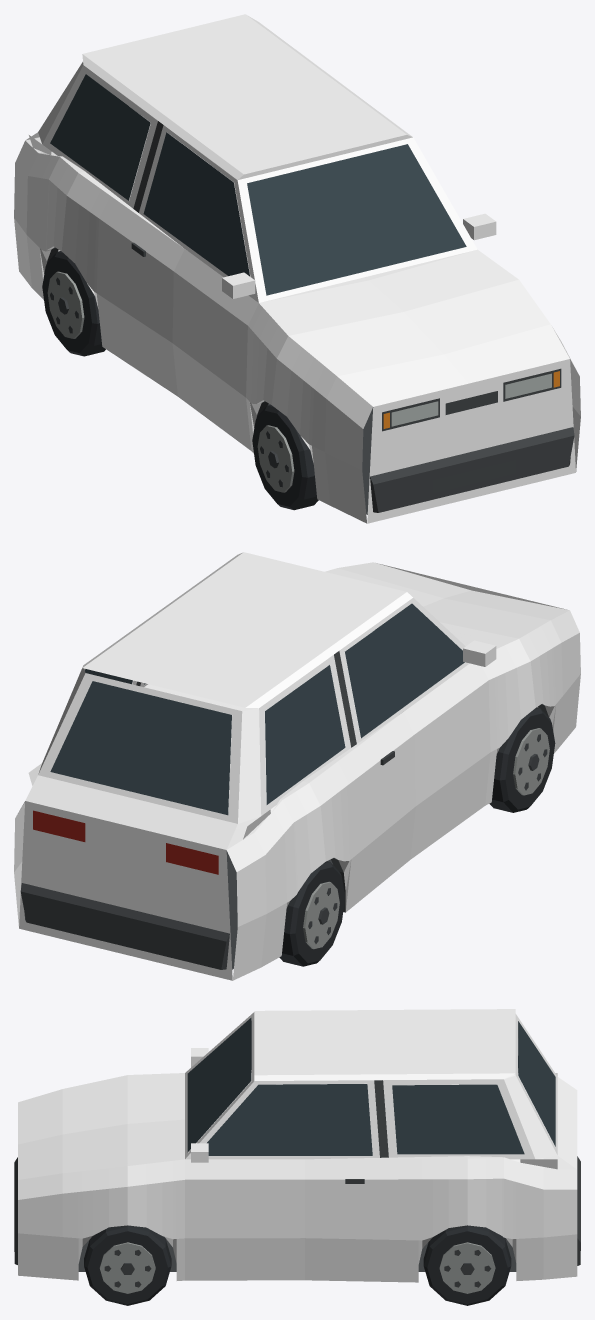
The model's file is saulieu_vague.glb.
The picture shows the model from 3 angles, top to bottom: view 1: azimuth 30°, elevation 25°; view 2: azimuth 150°, elevation 25°; view 3: azimuth 270°, elevation 25°; orthographic projection. The views are drawn at different scales.
Parts seen in each view (by area): view 1: saulieu_vague; view 2: saulieu_vague; view 3: saulieu_vague.
Part boxes in pixels (<box>): saulieu_vague: <box>14,14,580,523</box>; saulieu_vague: <box>14,552,580,980</box>; saulieu_vague: <box>14,1009,580,1305</box>.
Size of the model in its own units: 1.66 by 1.61 by 3.82.
8 materials, 1 textured.
